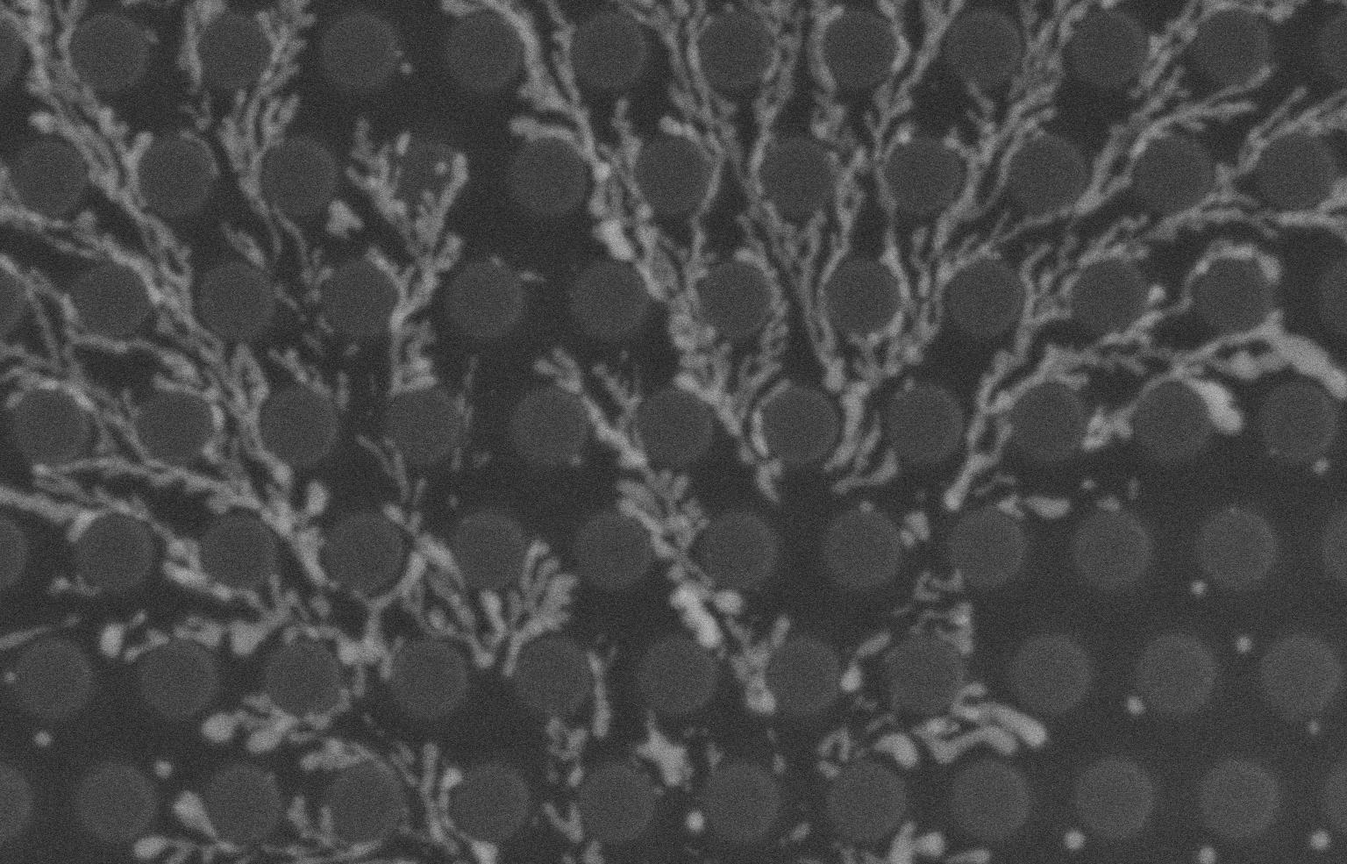Dendrite: (16, 0, 332, 585), (537, 347, 745, 647), (1001, 0, 1215, 245), (943, 329, 1210, 509), (346, 121, 467, 394), (636, 218, 759, 465), (965, 0, 1101, 219), (631, 0, 742, 251), (398, 534, 577, 678), (217, 0, 312, 260), (848, 224, 1000, 382), (210, 0, 315, 228), (442, 0, 594, 152), (943, 314, 1042, 511), (752, 186, 845, 393), (1119, 54, 1270, 177), (511, 117, 636, 261), (1130, 0, 1307, 95), (0, 484, 198, 568), (203, 667, 357, 771), (1118, 241, 1283, 338), (600, 98, 678, 303), (0, 165, 152, 267), (866, 0, 967, 146), (1182, 311, 1346, 399), (1019, 214, 1148, 321), (0, 254, 128, 361), (1086, 366, 1243, 450), (742, 0, 804, 205), (286, 611, 422, 696), (733, 214, 789, 420), (904, 682, 1046, 763), (866, 124, 914, 349), (0, 354, 111, 451), (1231, 89, 1346, 179), (175, 576, 296, 656), (341, 550, 425, 665), (1135, 168, 1257, 241), (942, 85, 1003, 231), (403, 358, 479, 473), (390, 742, 461, 854), (804, 0, 855, 150), (162, 536, 265, 610), (427, 768, 499, 864), (1249, 175, 1346, 245), (825, 137, 872, 278), (944, 413, 1011, 511), (35, 456, 213, 492), (176, 0, 226, 128), (360, 439, 424, 531), (730, 616, 788, 714), (271, 207, 330, 303), (202, 695, 300, 752), (269, 348, 349, 412), (34, 461, 132, 513), (750, 381, 789, 502), (823, 380, 872, 474), (830, 413, 882, 496), (635, 711, 692, 786), (301, 738, 397, 781), (860, 822, 943, 864), (263, 839, 401, 864), (133, 833, 240, 864), (910, 601, 973, 653), (288, 795, 344, 852), (587, 633, 616, 738), (544, 0, 577, 92), (874, 0, 911, 82), (547, 718, 588, 787), (0, 616, 78, 651), (840, 634, 887, 692), (834, 453, 899, 493), (0, 342, 61, 381), (99, 611, 146, 658), (288, 841, 378, 864), (259, 591, 307, 631), (995, 492, 1068, 518), (173, 791, 214, 836), (224, 225, 266, 268), (914, 569, 967, 602), (122, 628, 174, 661), (865, 700, 909, 739), (872, 732, 919, 768), (965, 470, 1019, 499), (543, 802, 582, 842), (325, 199, 363, 239), (303, 312, 342, 348), (457, 832, 498, 864), (818, 727, 853, 760), (49, 574, 99, 596), (272, 282, 303, 314), (902, 512, 929, 547), (768, 731, 788, 773), (778, 820, 809, 847), (232, 626, 260, 653), (947, 848, 990, 864), (849, 693, 878, 716), (339, 340, 367, 363), (581, 842, 605, 864), (705, 743, 724, 768), (1064, 829, 1085, 851), (816, 759, 839, 779), (1308, 830, 1329, 851), (310, 595, 330, 615), (1125, 695, 1144, 716), (1147, 284, 1165, 306), (688, 810, 704, 833), (855, 497, 881, 511), (887, 603, 911, 618), (154, 759, 172, 778), (1197, 846, 1216, 864), (1096, 495, 1121, 508), (33, 731, 52, 747), (771, 755, 787, 773), (1235, 636, 1251, 653), (1189, 580, 1206, 596), (1313, 458, 1329, 475), (347, 860, 412, 864), (1128, 477, 1139, 499), (913, 488, 927, 505), (843, 851, 858, 864), (1307, 719, 1319, 735), (1081, 478, 1096, 490), (236, 857, 254, 864), (78, 349, 103, 351), (416, 371, 417, 372)
